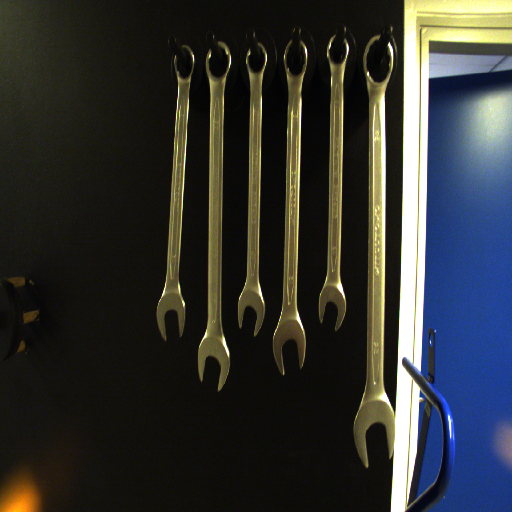bottom: (352, 398, 399, 470), (270, 318, 311, 377), (197, 336, 232, 392), (315, 283, 349, 333), (153, 294, 188, 342), (235, 287, 268, 337)
top: (361, 35, 394, 85), (204, 41, 233, 85), (169, 42, 197, 84), (281, 37, 308, 79), (243, 41, 268, 77), (324, 35, 351, 68)
